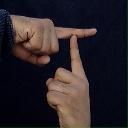hand: (3, 13, 97, 66), (45, 34, 92, 127)
